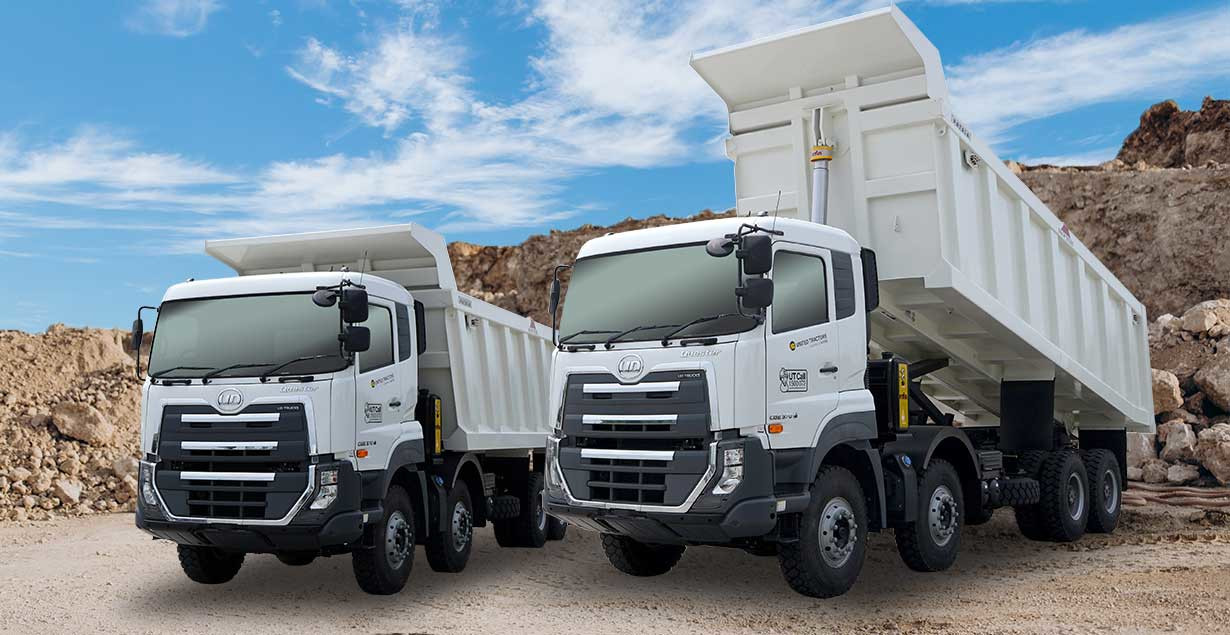truck: (539, 7, 1157, 600)
